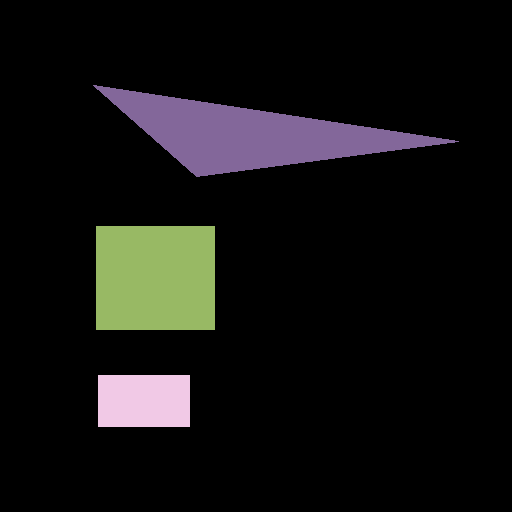rectangle: (96, 226, 214, 329), (98, 375, 189, 426)
triangle: (93, 85, 458, 176)
